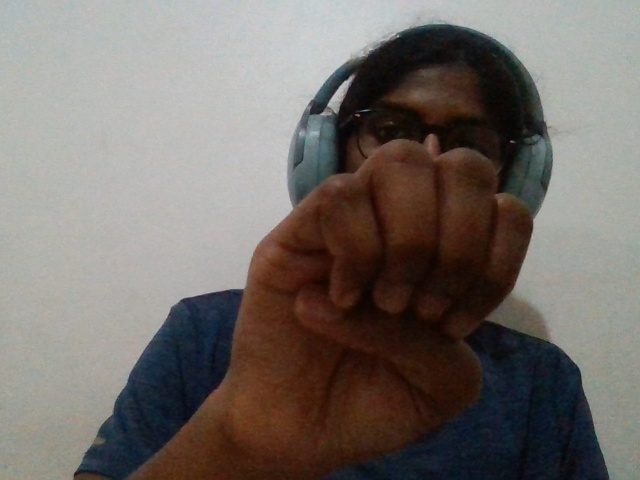E: (178, 86, 538, 480)
